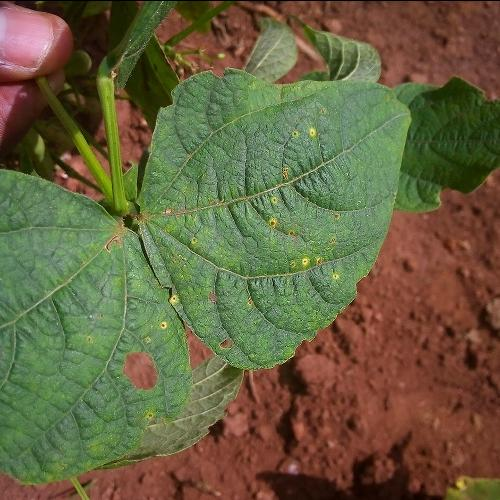mozaik: (94, 307, 248, 422)
